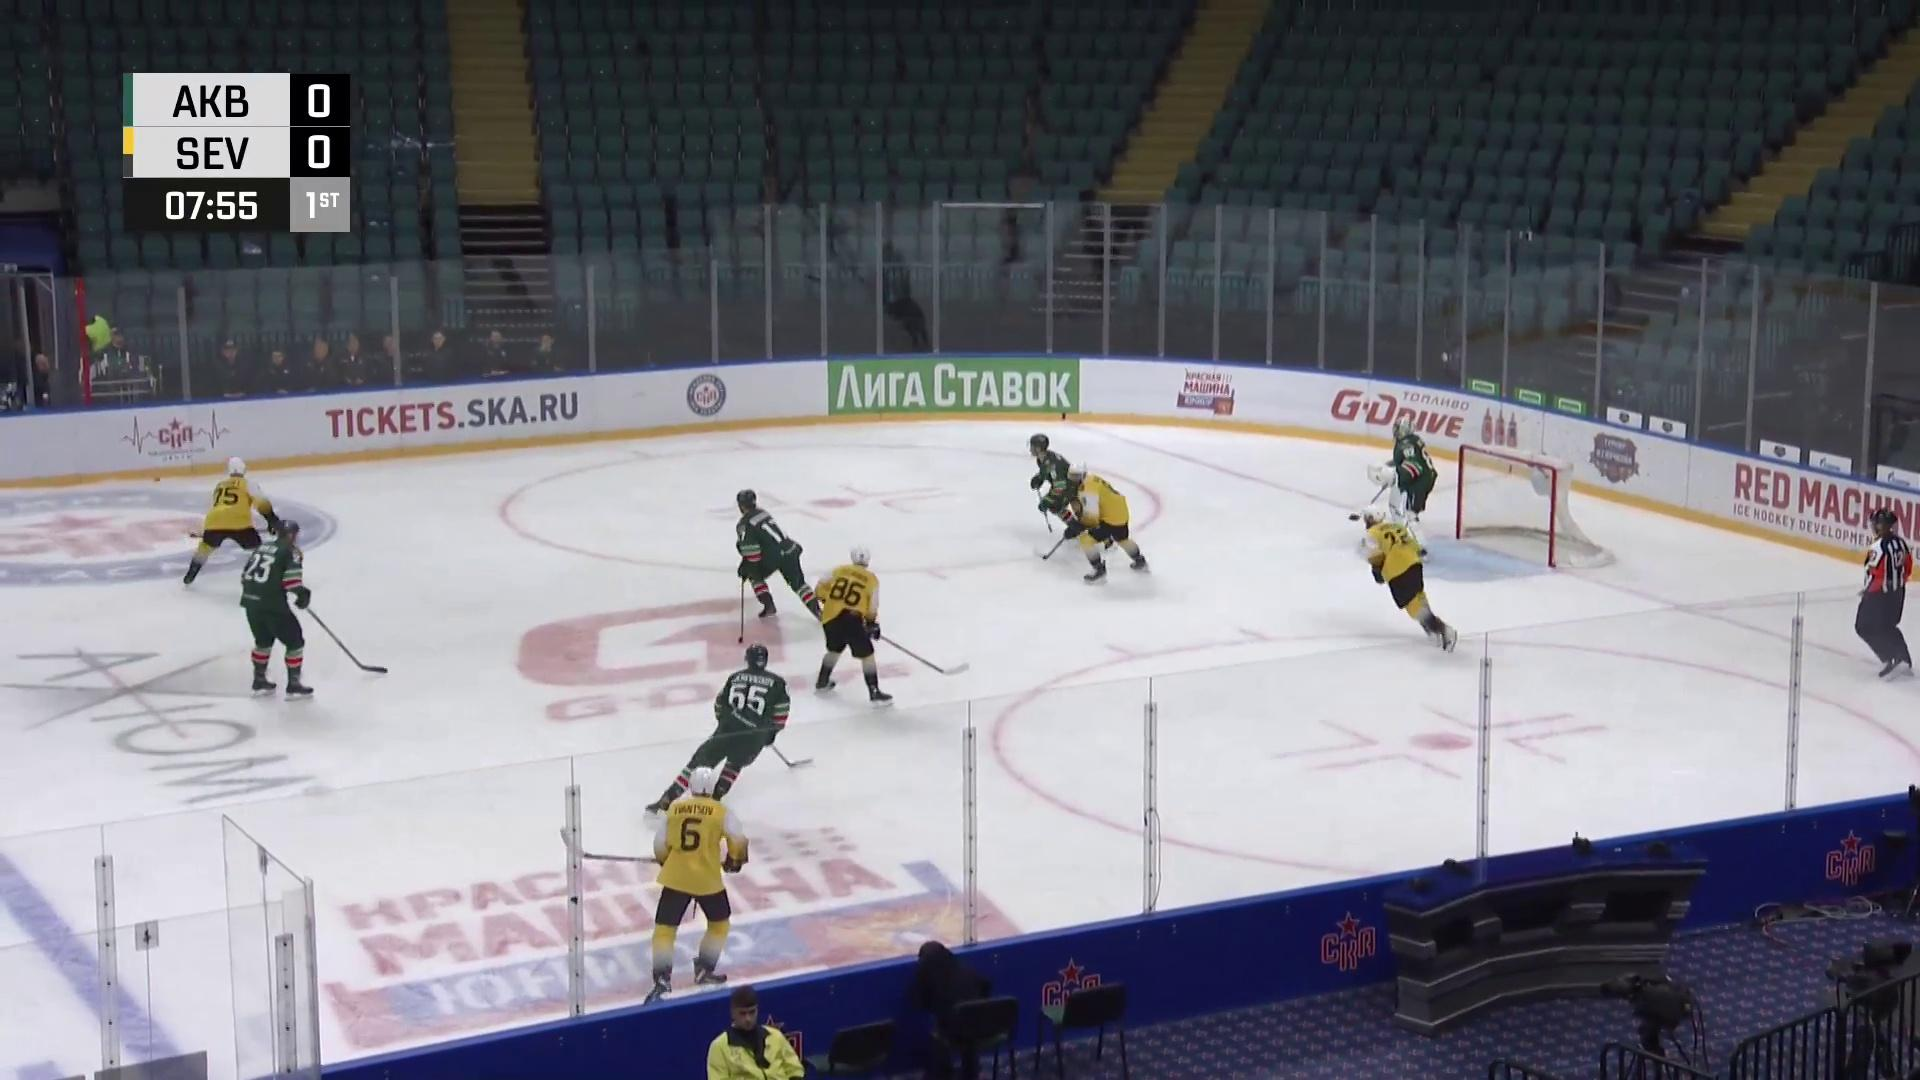ball: (153, 476, 161, 483)
